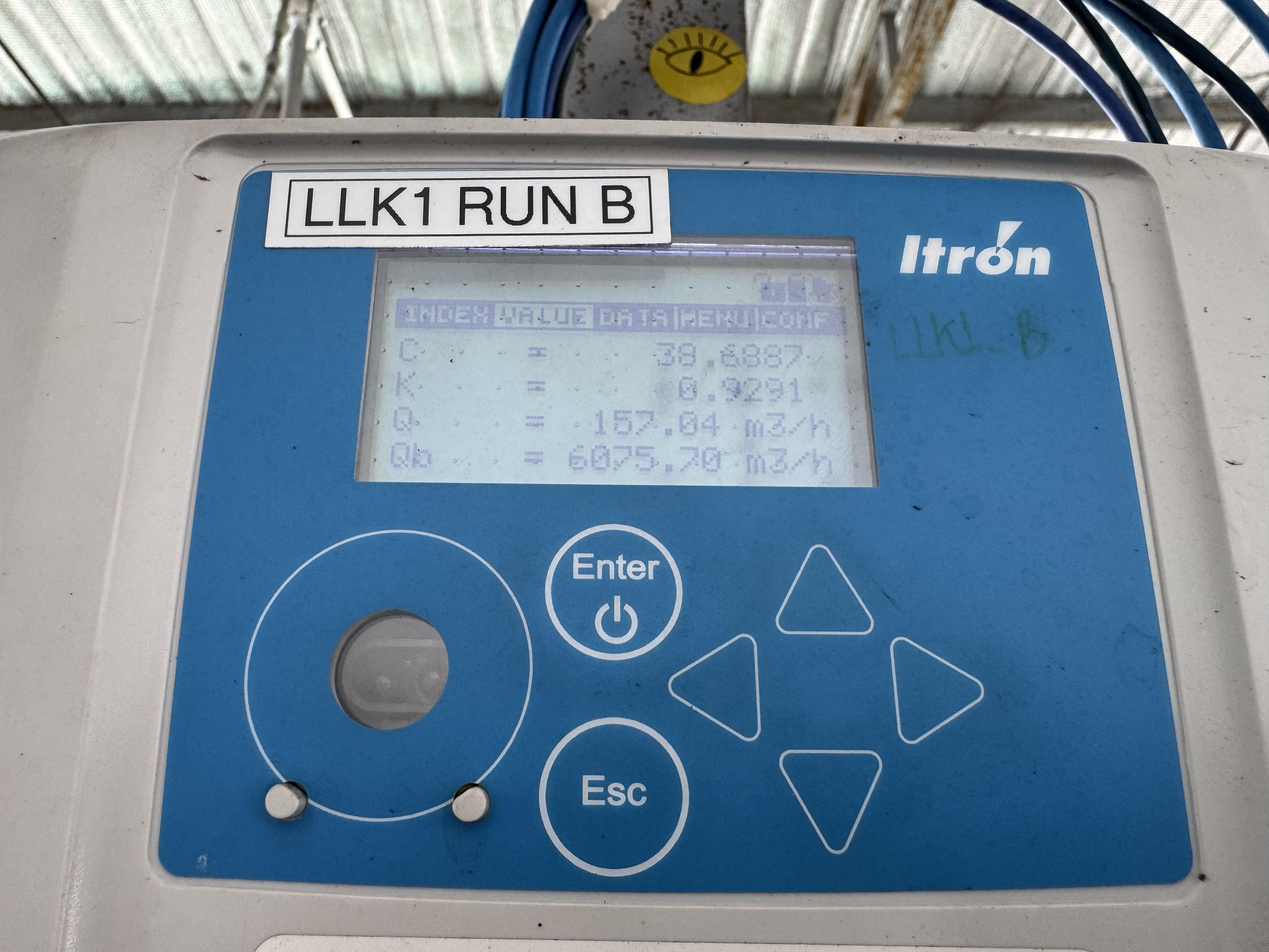digital_screen: (354, 231, 882, 487)
